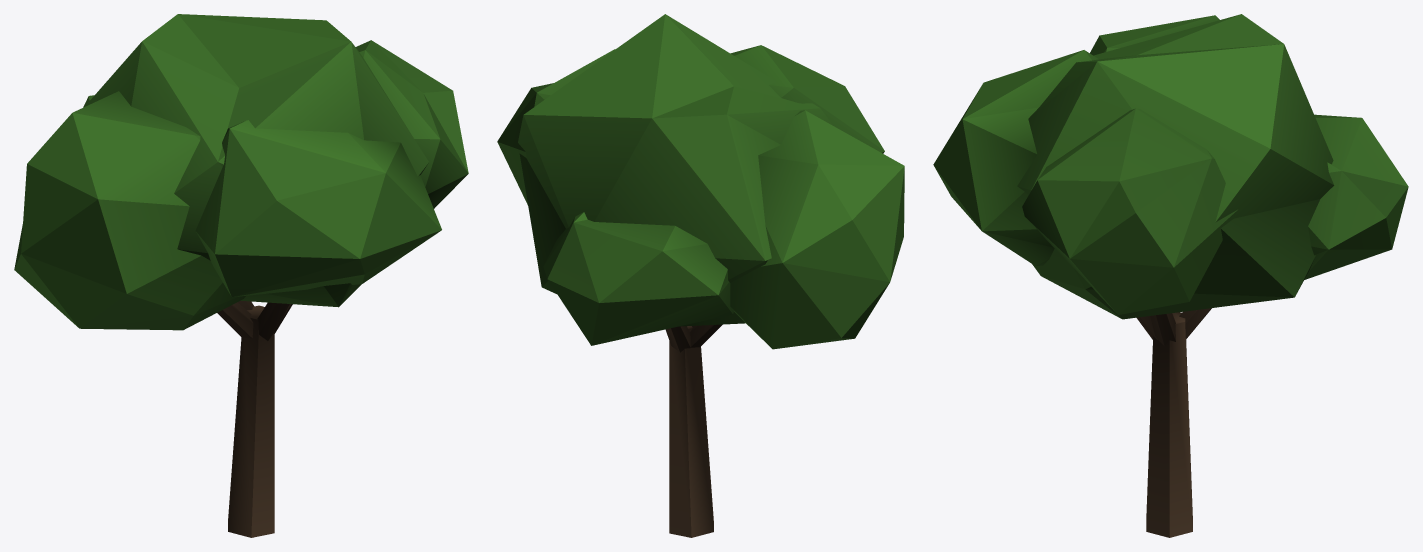
The model's file is broadleaf_1.glb.
3 renders of one model, left to right at view 1: azimuth 30°, elevation 25°; view 2: azimuth 150°, elevation 25°; view 3: azimuth 270°, elevation 25°, orthographic. The views are drawn at different scales.
Parts seen in each view (by area): view 1: trunk; view 2: trunk; view 3: trunk.
Boxes of the visible parts, x1,y1,x2,y2 form: trunk: (14,14,468,537); trunk: (497,14,904,537); trunk: (933,14,1408,537).
Size of the model in its own units: 5.39 by 6.09 by 5.29.
